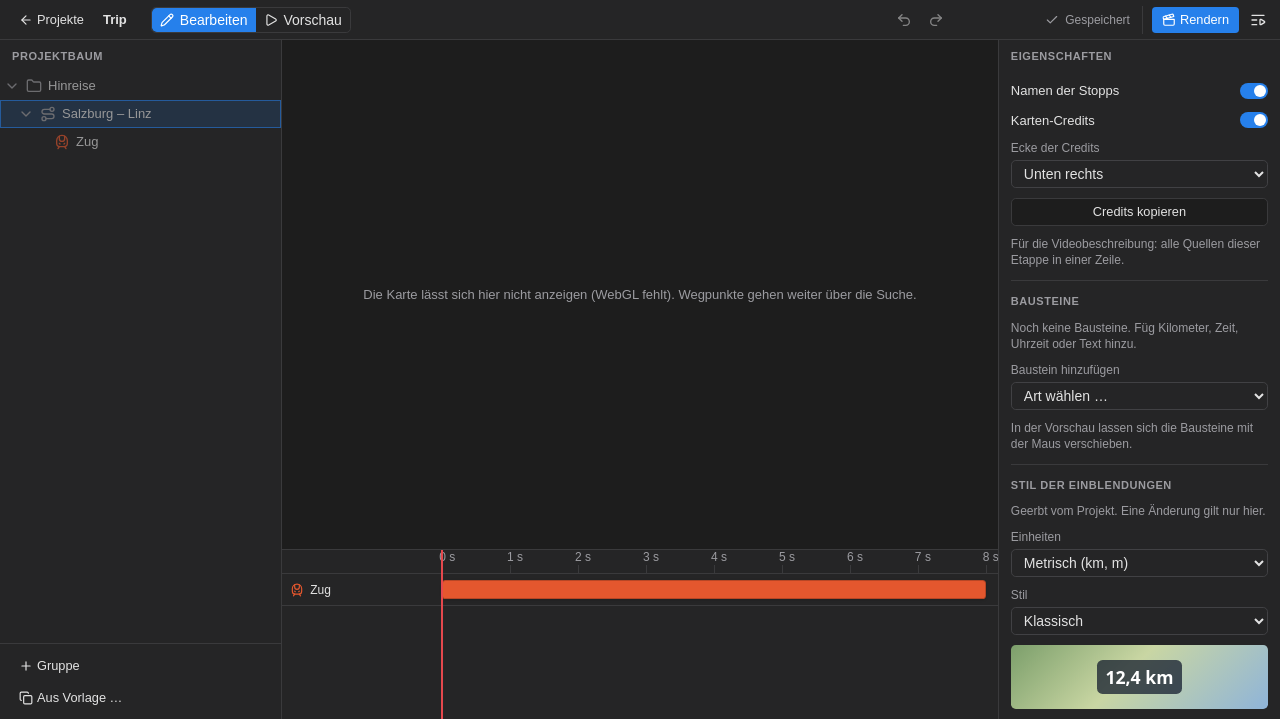
overlay blocks in the inspector › adds a text block, places it and removes it again
(page scrolled)
Expected: the heading "Trip" is shown, [103,10,127,29]
Expected: the text "Noch keine Bausteine" is shown, [1011,320,1238,350]
Select "Text" in the dropdown labelled "Baustein hinzufügen" at (1139, 396), box [1011,382,1268,410]
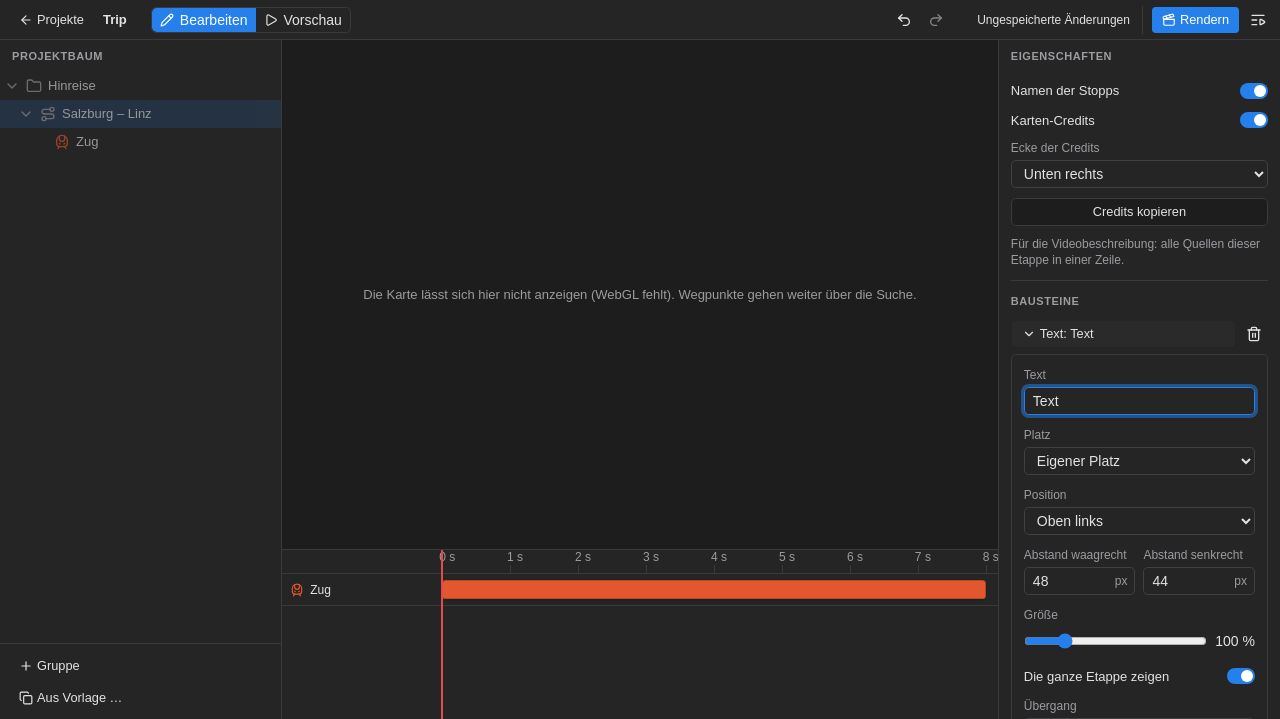
Type keys "{Control>}a{/Control}{Backspace}Tag 4{Enter}"
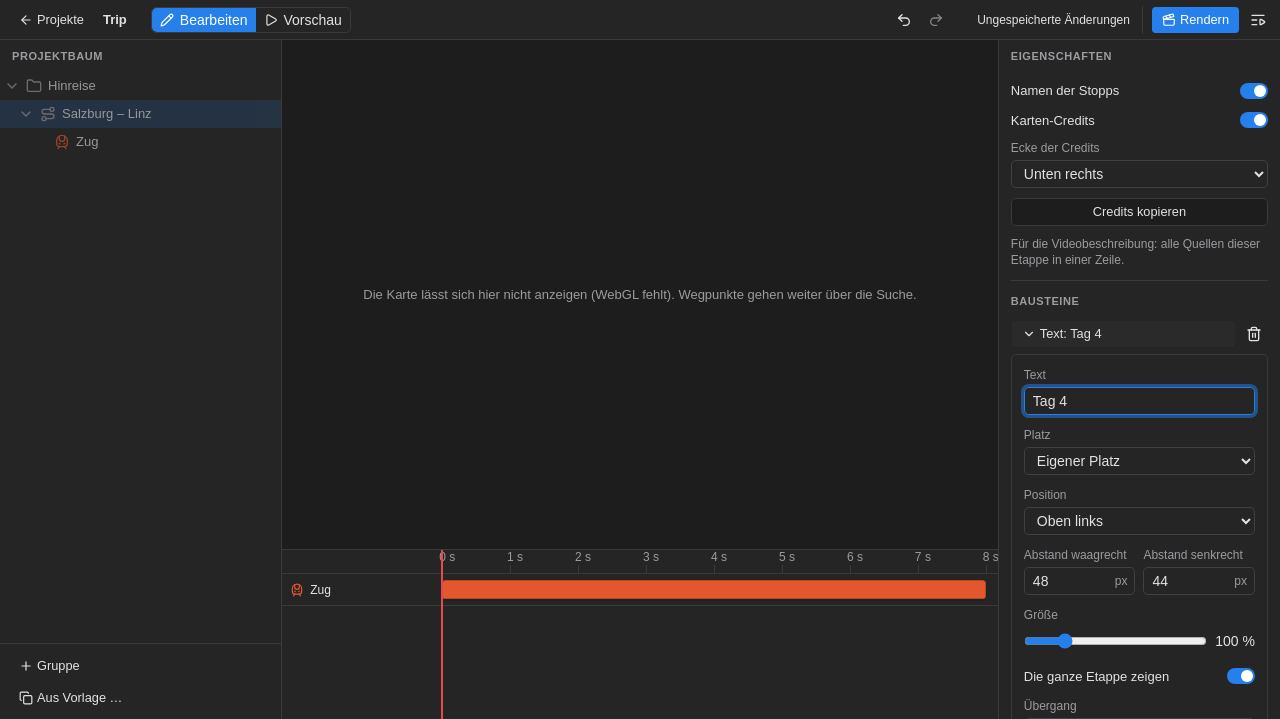
Select "Oben rechts" in the dropdown labelled "Position" at (1139, 520), box [1024,506,1255,534]
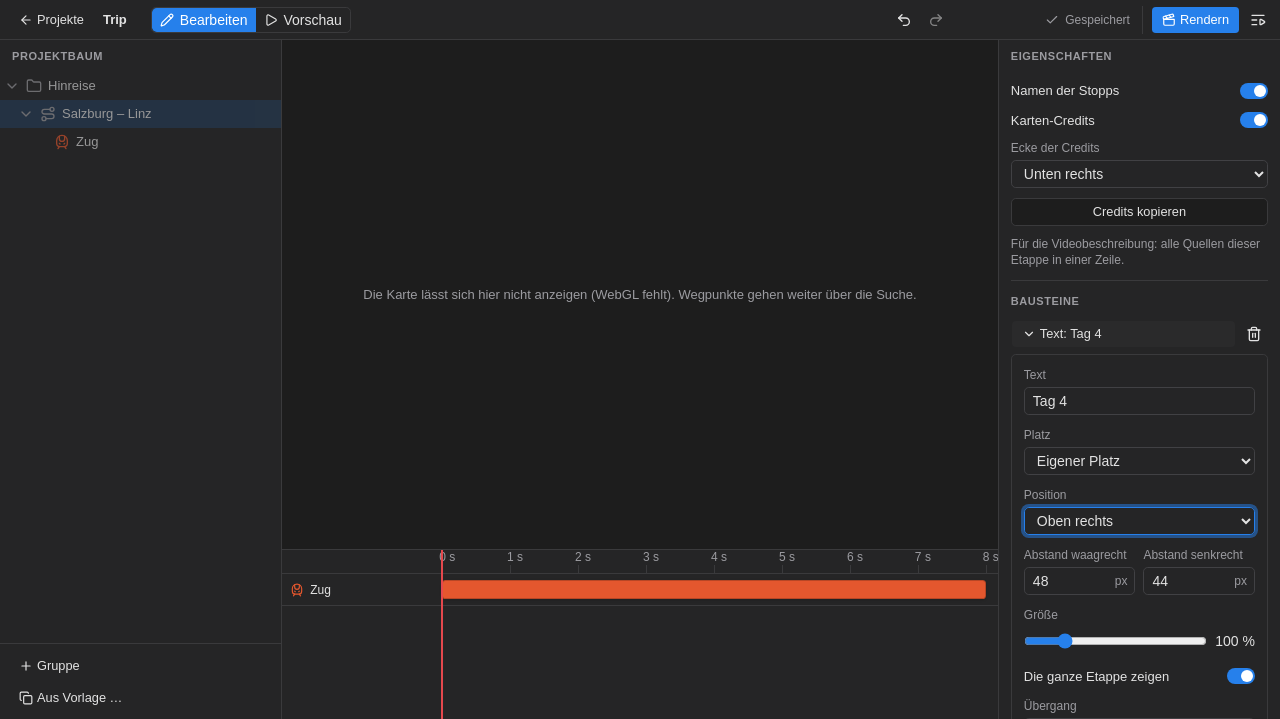
Click the button named "„Text: Tag 4“ entfernen".
click(1254, 334)  # box [1240,320,1268,348]
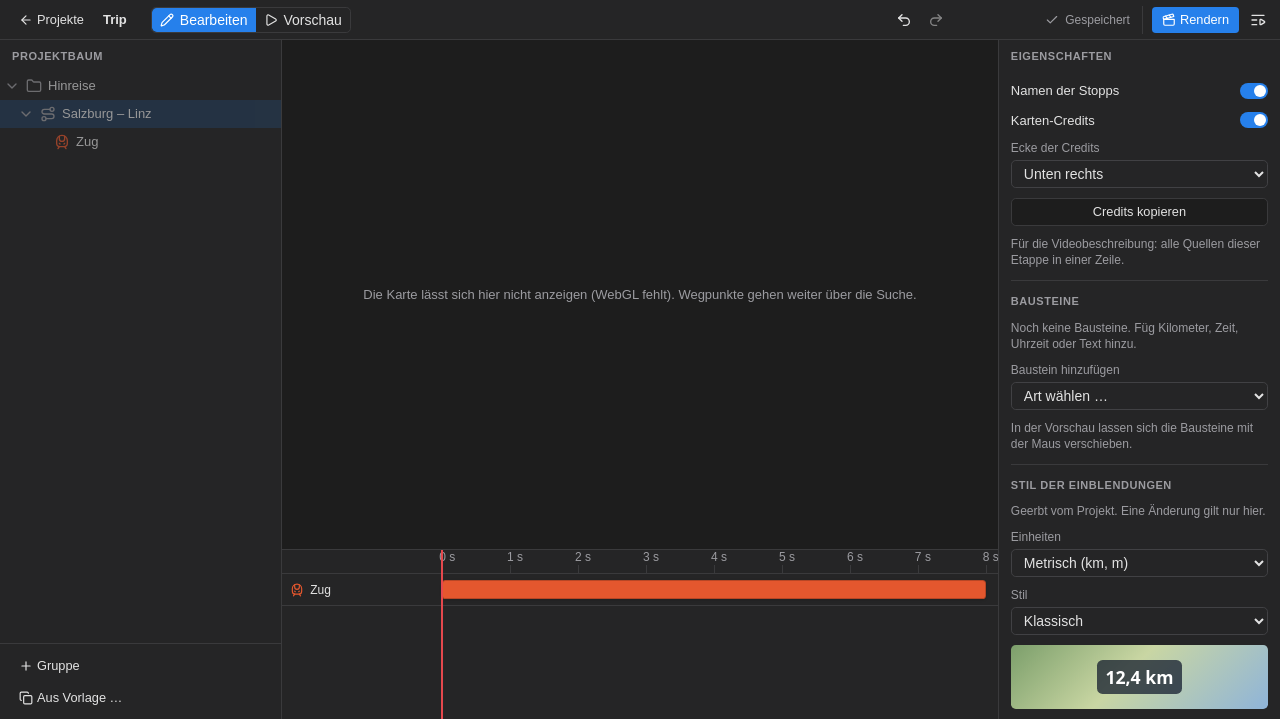
Expected: the text "Noch keine Bausteine" is shown, [1011,320,1238,350]
